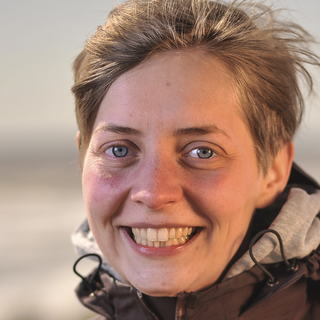eye: (91, 134, 147, 166), (174, 139, 230, 167)
